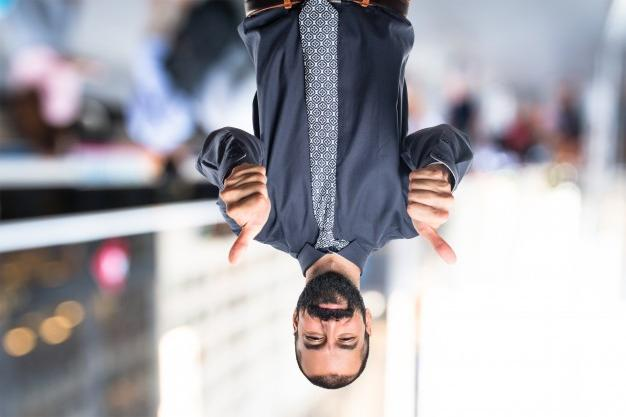thumbsdown: (407, 169, 458, 265), (220, 163, 267, 266)
